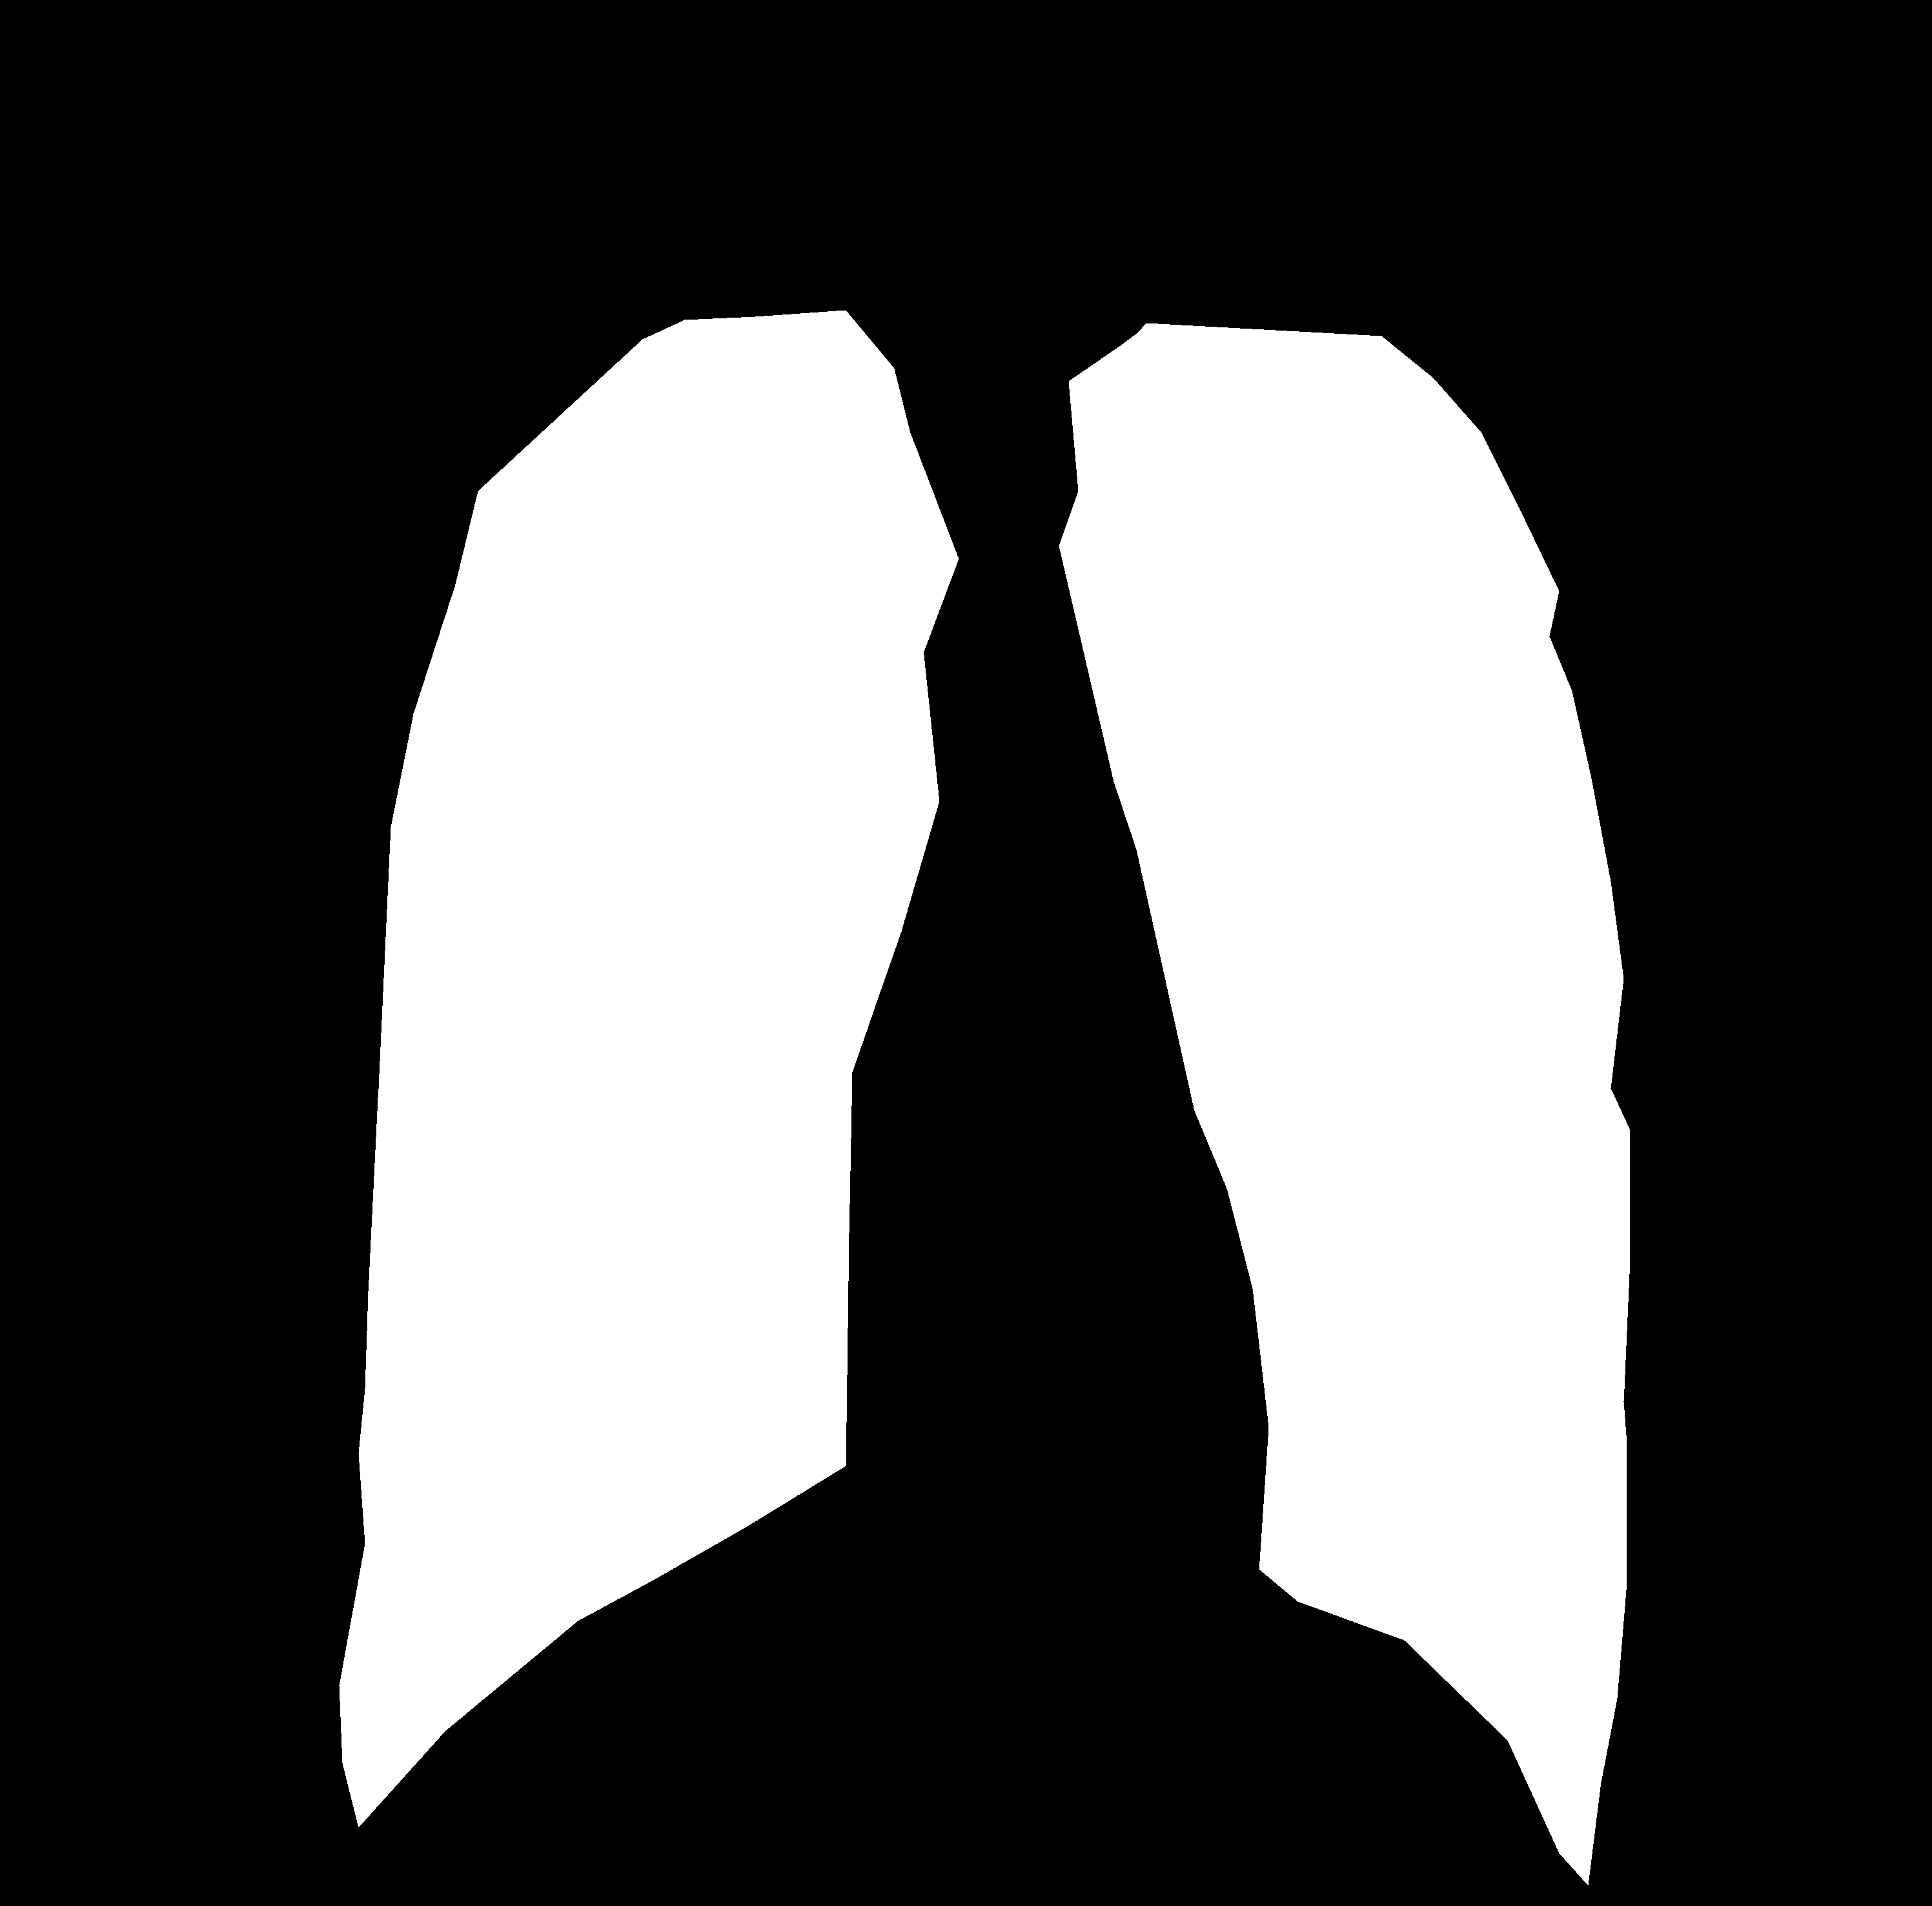heart: (803, 1054, 1279, 1613)
left_lung: (337, 311, 958, 1831)
right_lung: (1059, 323, 1625, 1876)
